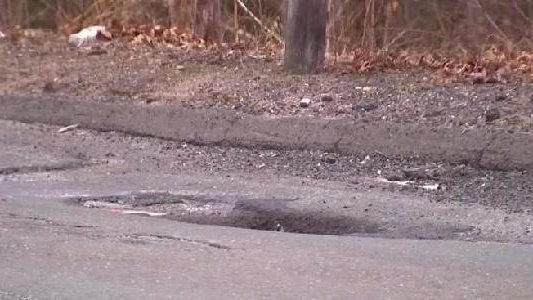pothole: (67, 187, 379, 238)
